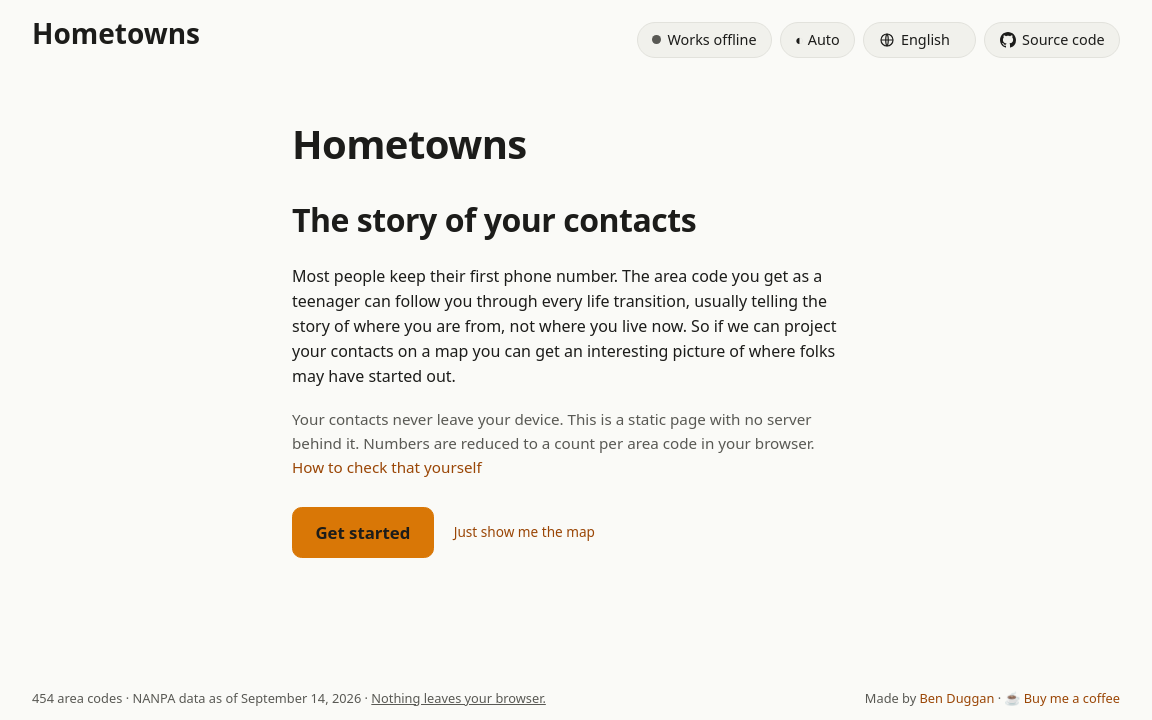
Scenario: App › marks a home area code from the welcome screen
Click the button "Get started": coordinates (363, 533) [292,507,434,558]
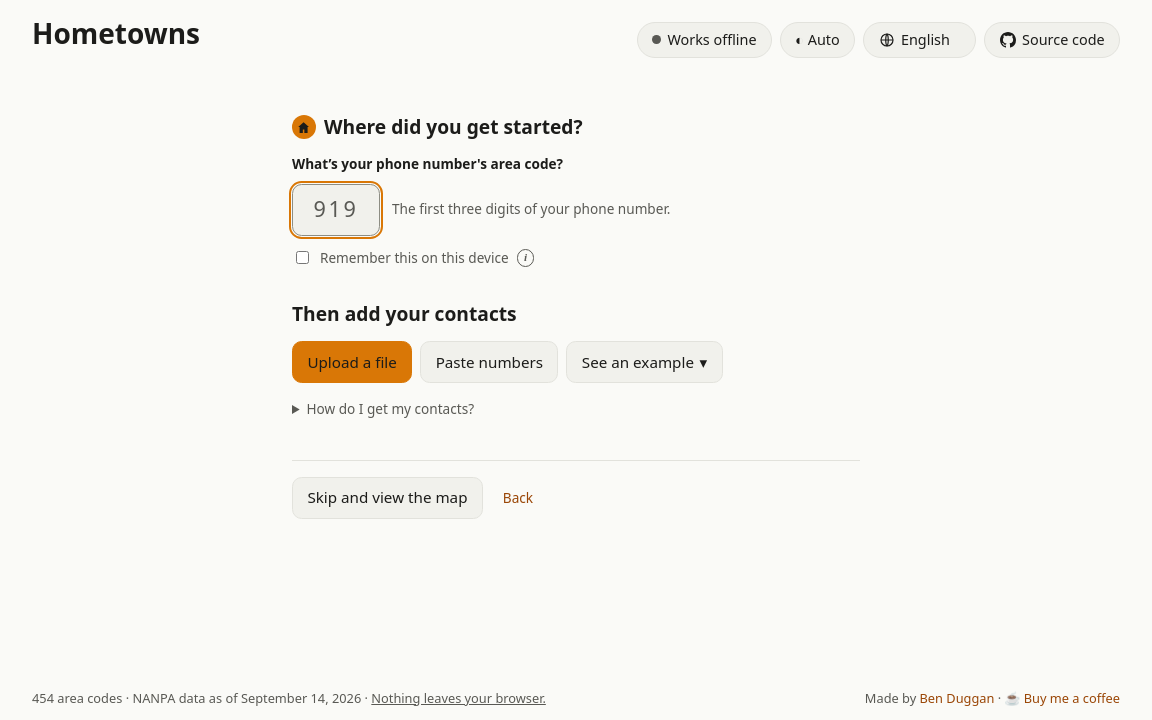
In the field labelled "What’s your phone number's area code?": coordinates (336, 210) [292,184,380,236], type "91x9"
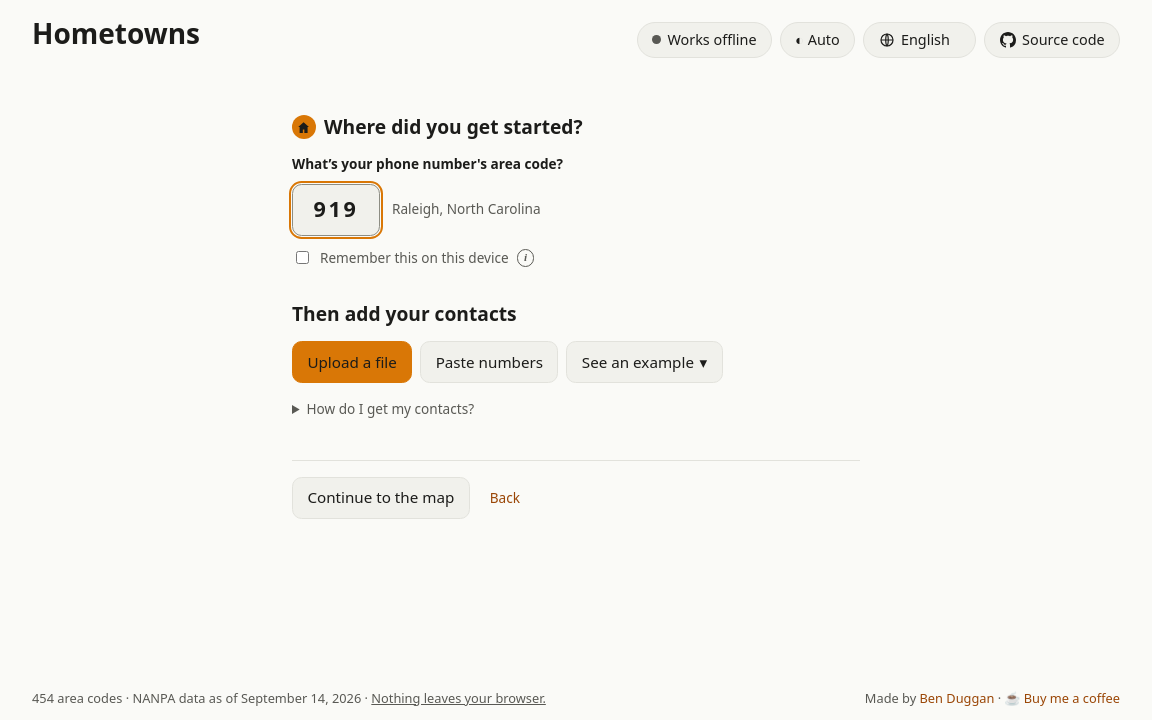
Expected: the text "Raleigh, North Carolina" is shown, [392,199,540,218]
Click the button "Continue to the map": coordinates (381, 498) [292,476,470,519]
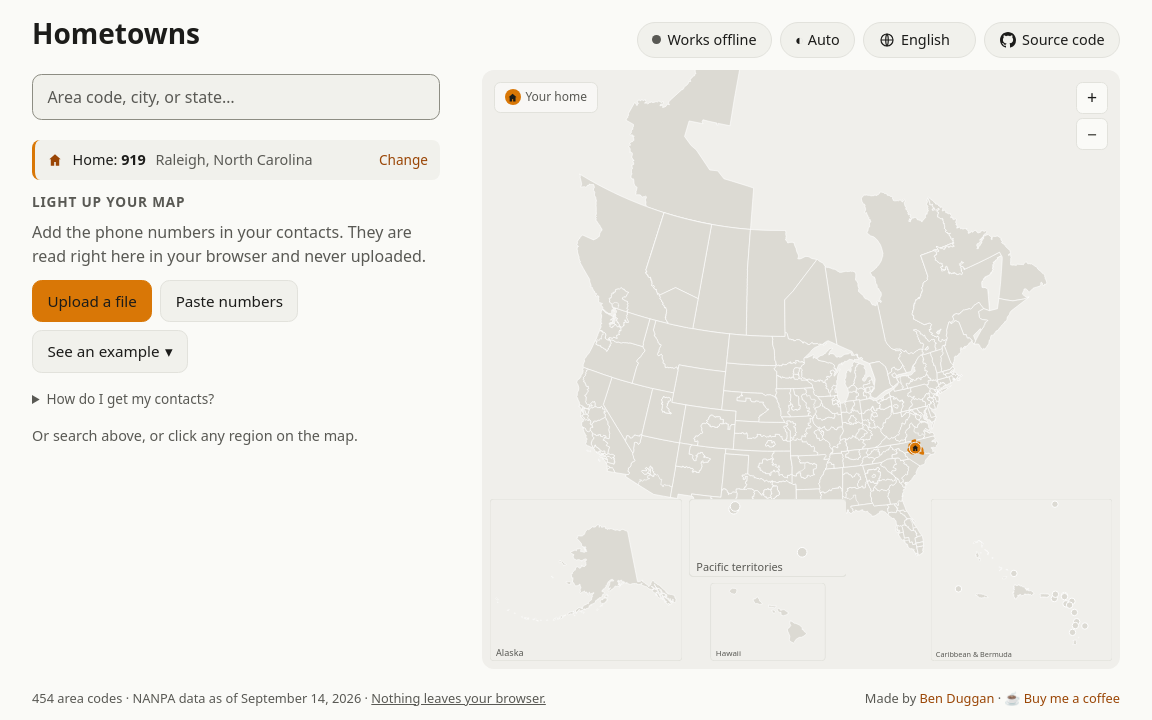
Expected: the text "Your home" is shown, [505,88,587,106]
Expected: the text "Home: 919" is shown, [73,149,146,171]
